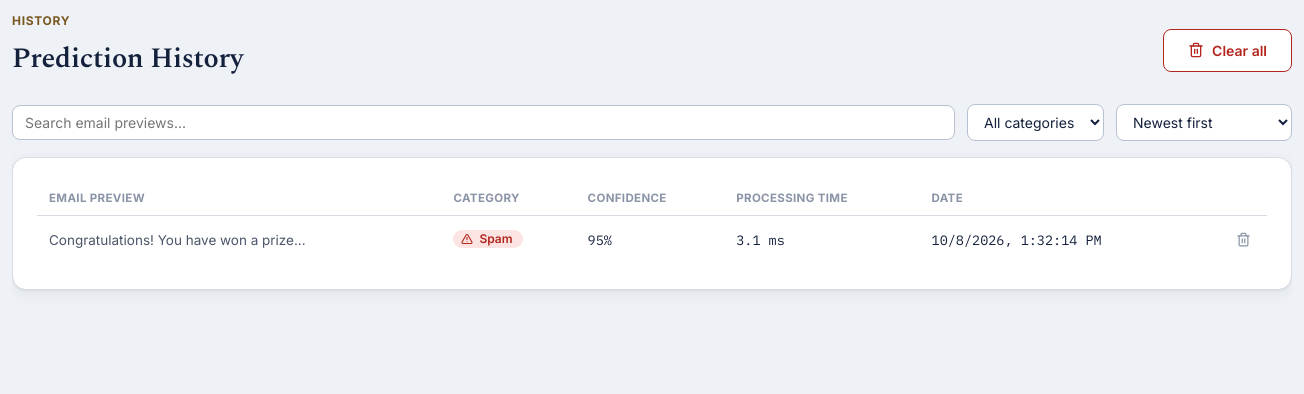
History › shows an error message (not a silent failure) when delete fails — regression test
Expected: the text "Congratulations! You have won a prize..." is shown, [37,216,441,265]
Click the button named "delete history entry": (1244, 240) [1232,228,1255,251]
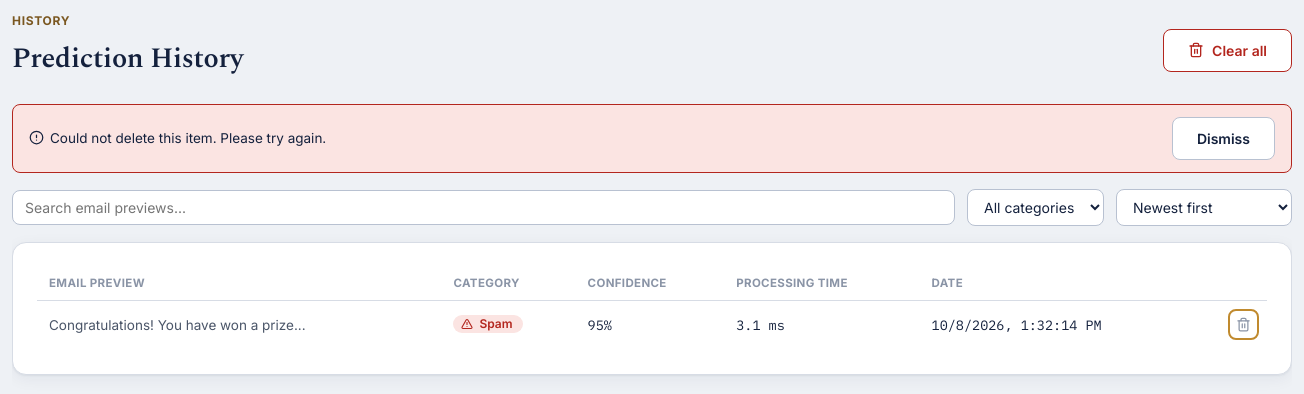
Expected: the text "Congratulations! You have won a prize..." is shown, [37,301,441,350]
Expected: the text "Could not delete this item. Please try again." is shown, [29,128,326,149]
